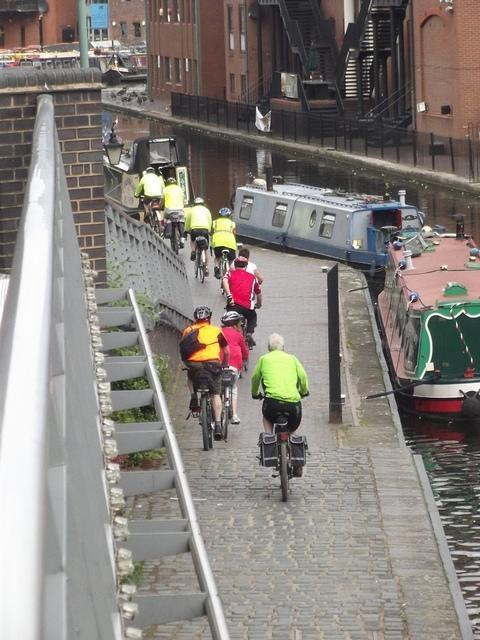bicycle: (257, 412, 309, 502), (221, 371, 234, 441), (140, 196, 162, 236), (199, 378, 211, 450), (218, 248, 230, 294), (194, 238, 206, 284), (169, 216, 180, 255)
